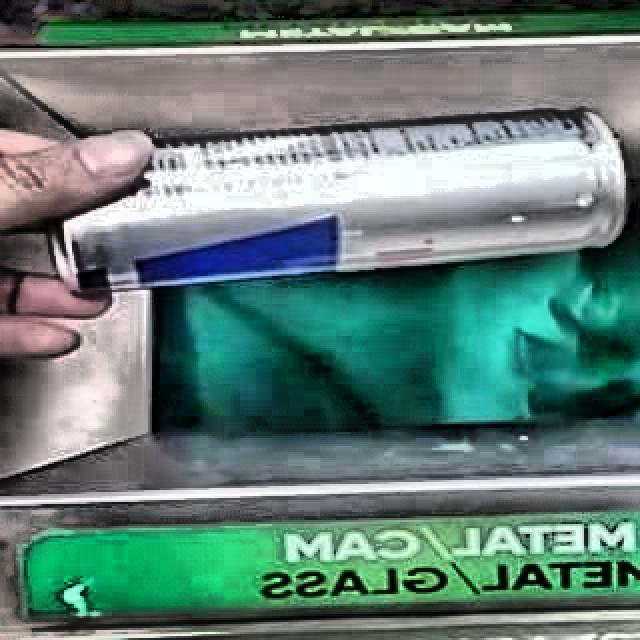metal: (59, 110, 629, 291)
